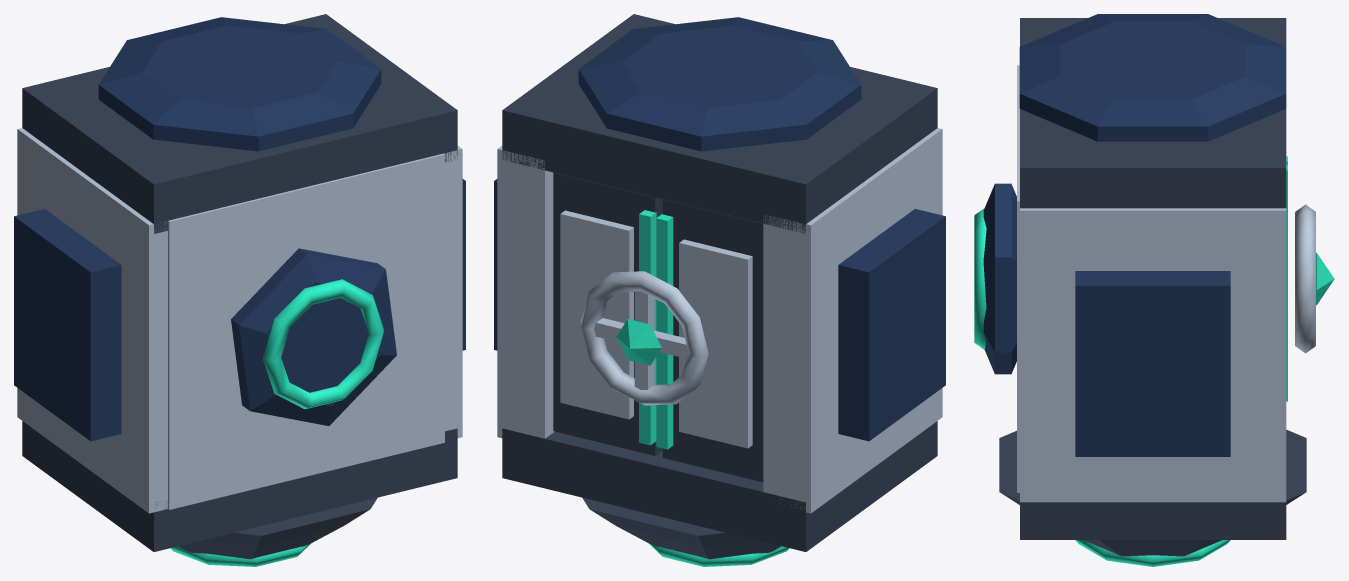
The model's file is AirProp_OutputHoloVault.obj.
The picture shows the model from 3 angles, left to right: view 1: azimuth 30°, elevation 25°; view 2: azimuth 150°, elevation 25°; view 3: azimuth 270°, elevation 25°; orthographic projection.
Visible parts, largest first — view 1: Vault_Shell; view 2: Vault_Shell, Vault_ShutterL, Vault_ShutterR, Vault_LockWheel; view 3: Vault_Shell, Vault_LockWheel, Vault_ShutterR.
Boxes of the visible parts, x1,y1,x2,y2 form: Vault_Shell: (14, 14, 465, 566); Vault_Shell: (494, 14, 945, 566); Vault_ShutterL: (656, 199, 763, 482); Vault_ShutterR: (553, 172, 662, 455); Vault_LockWheel: (580, 271, 708, 405); Vault_Shell: (974, 14, 1306, 566); Vault_LockWheel: (1295, 204, 1334, 353); Vault_ShutterR: (1286, 164, 1287, 401).
Size of the model in its own units: 0.79 by 0.965 by 0.6496.
